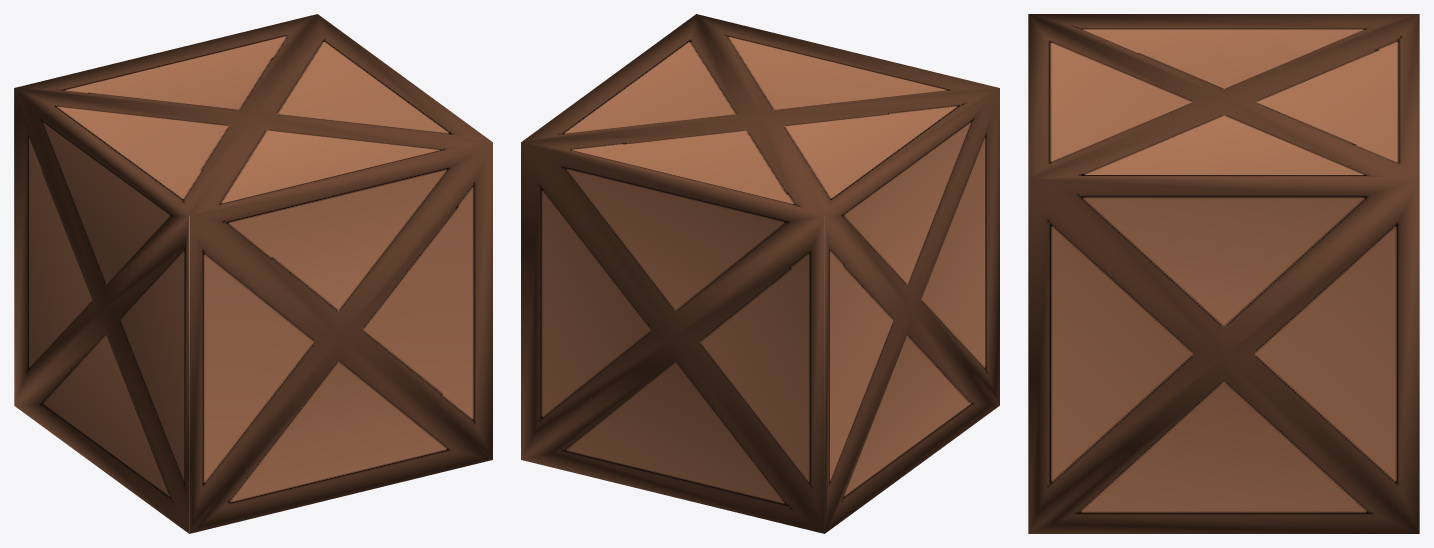
File: crate.obj
3 renders of one model, left to right at view 1: azimuth 30°, elevation 25°; view 2: azimuth 150°, elevation 25°; view 3: azimuth 270°, elevation 25°, orthographic. The views are drawn at different scales.
Visible parts, largest first — view 1: Cube4; view 2: Cube4; view 3: Cube4.
Part boxes in pixels (box(x1,y1,x2,y2)): Cube4: box(14, 14, 492, 533); Cube4: box(521, 14, 999, 533); Cube4: box(1028, 14, 1419, 533).
Size of the model in its own units: 2 by 2 by 2.
1 material, 1 textured.
